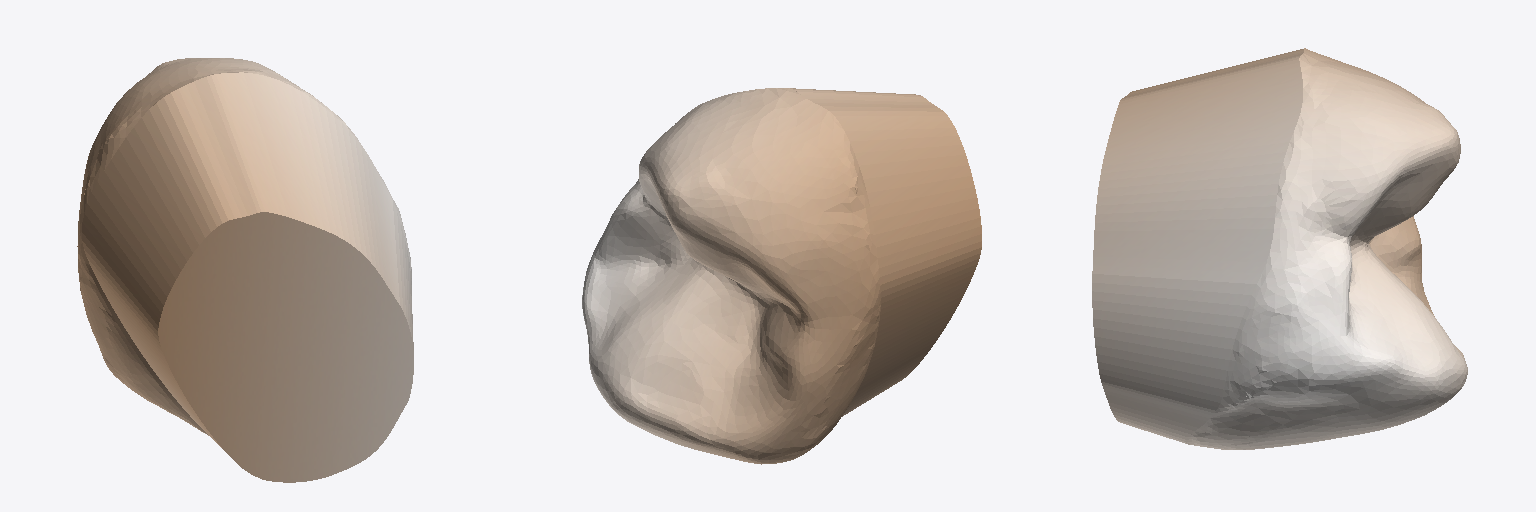
3 renders of one model, left to right at view 1: azimuth 30°, elevation 25°; view 2: azimuth 150°, elevation 25°; view 3: azimuth 270°, elevation 25°, orthographic.
Size of the model in its own units: 8.78 by 9.81 by 9.17.
1 materials, 1 textured.